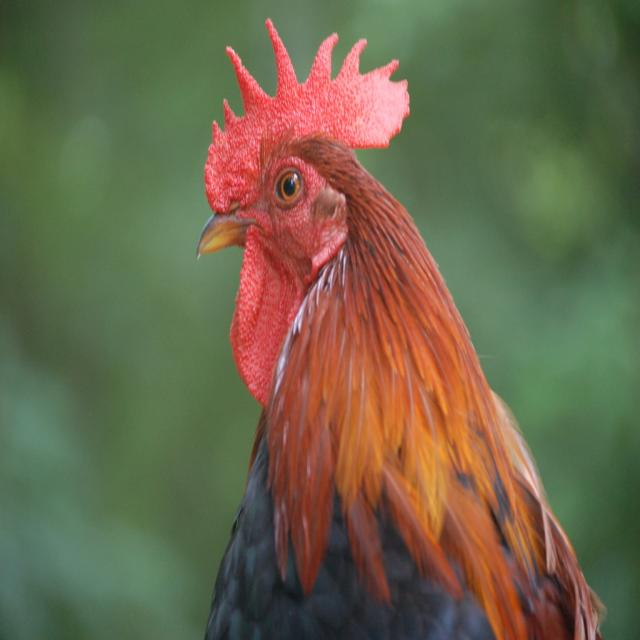Chicken: (178, 44, 600, 598)
